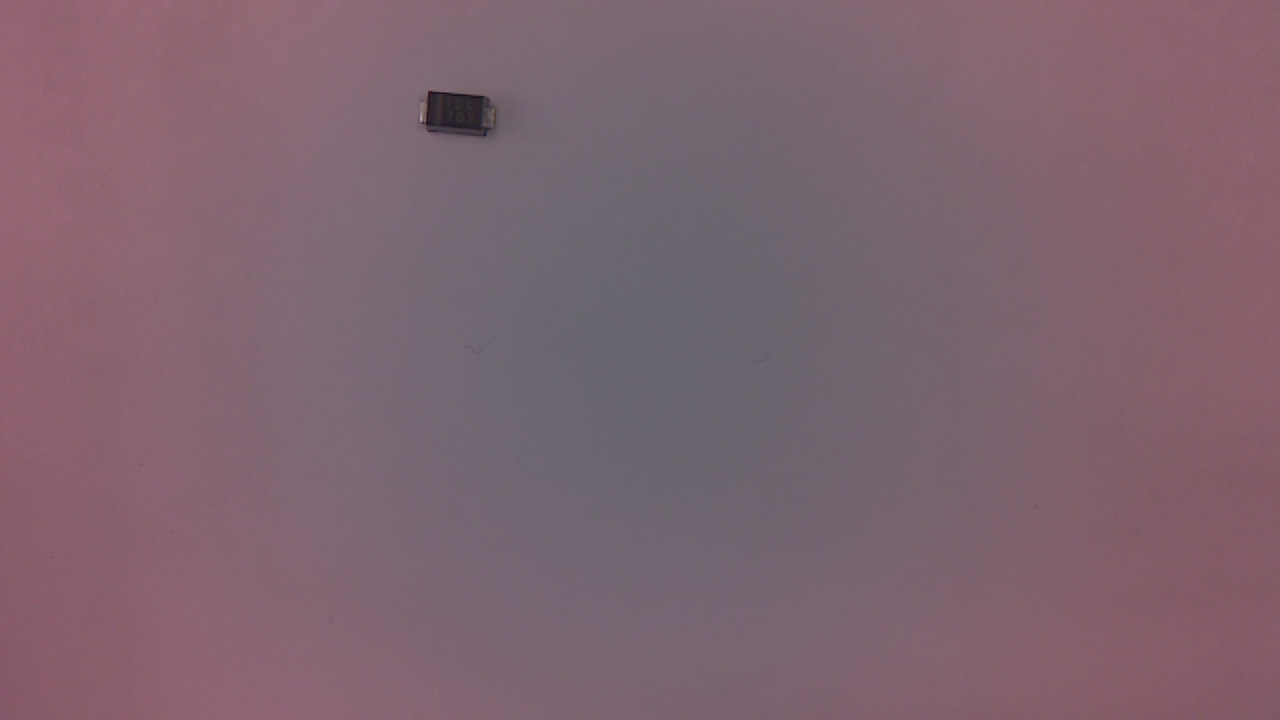Diode: (418, 94, 508, 142)
